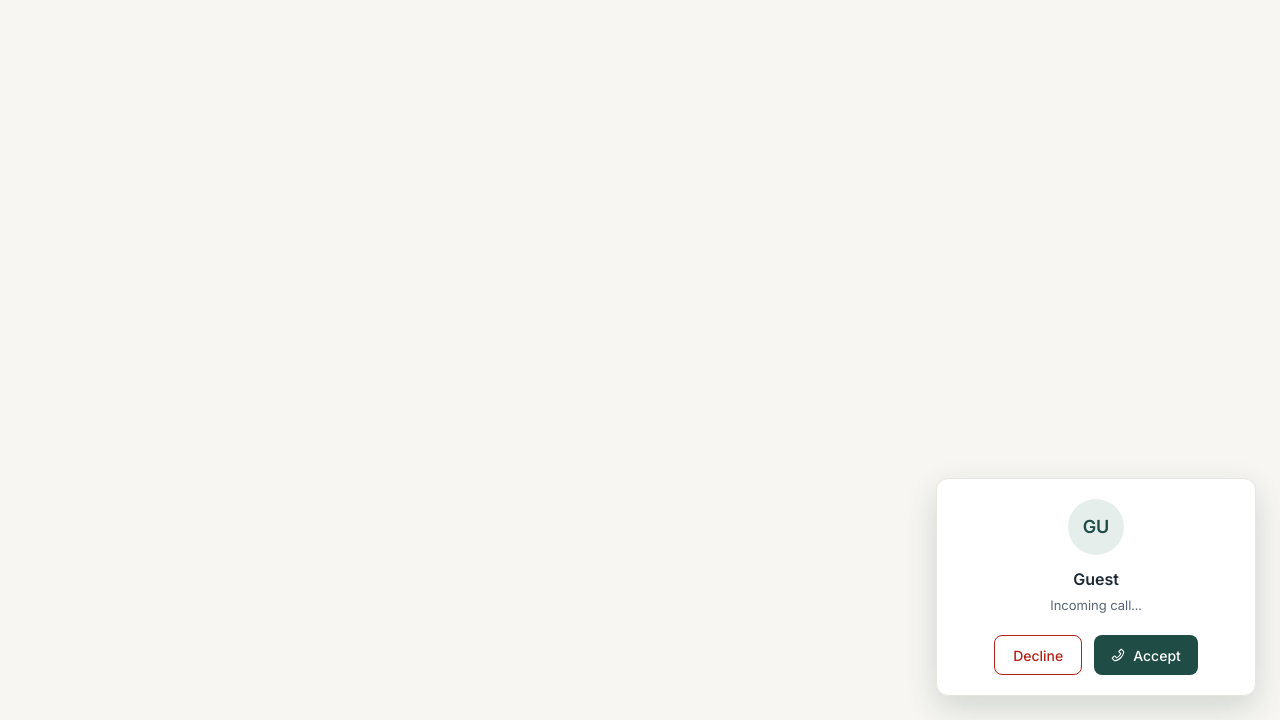
Test: CallPopup and call state machine › handles incoming call ringing, Accept -> connected, and Decline -> call:reject + ended system pill
The width and height of the screenshot is (1280, 720).
expect the message with test id "call-status-text" reads "Incoming call...": met, box [1050,597,1142,613]
expect the button "Decline" is shown: met, box [994,635,1082,675]
Click the button "Accept": click(1146, 655) [1094,635,1198,675]
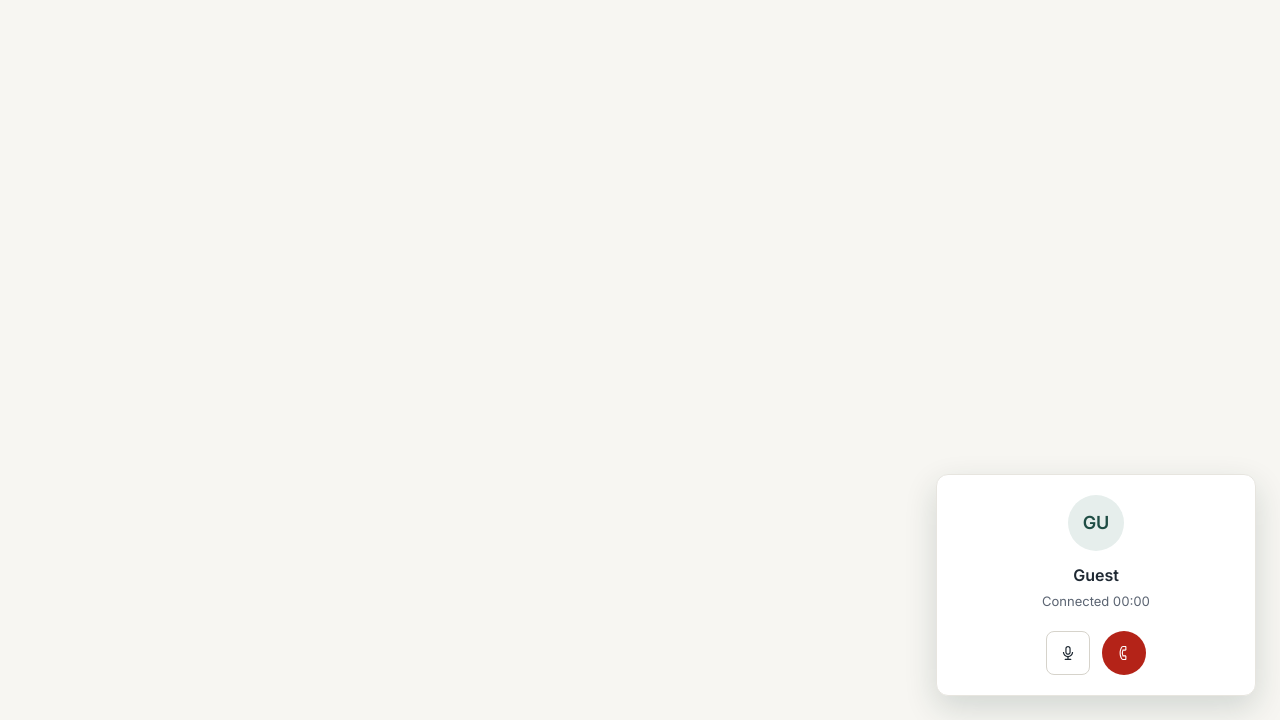
End accepted call and reset
Click the button named "End call": click(1124, 653) [1102,631,1146,675]
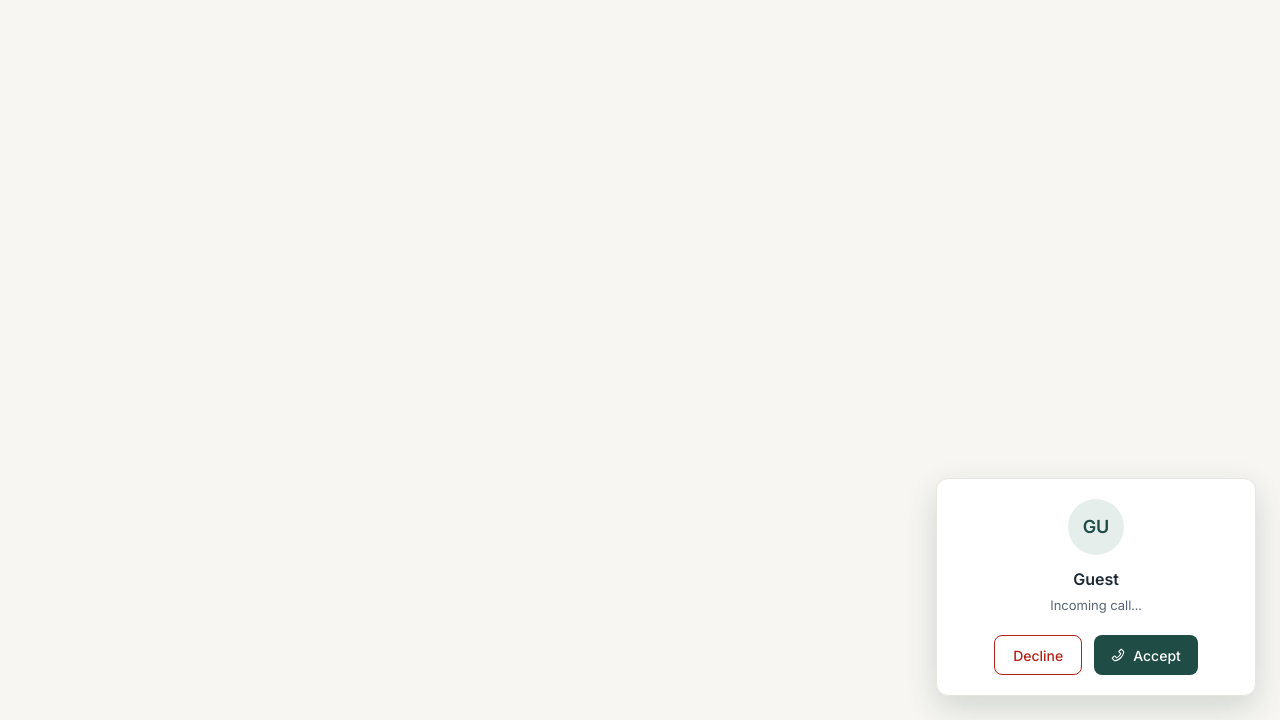
Click the button "Decline": click(1038, 655) [994,635,1082,675]
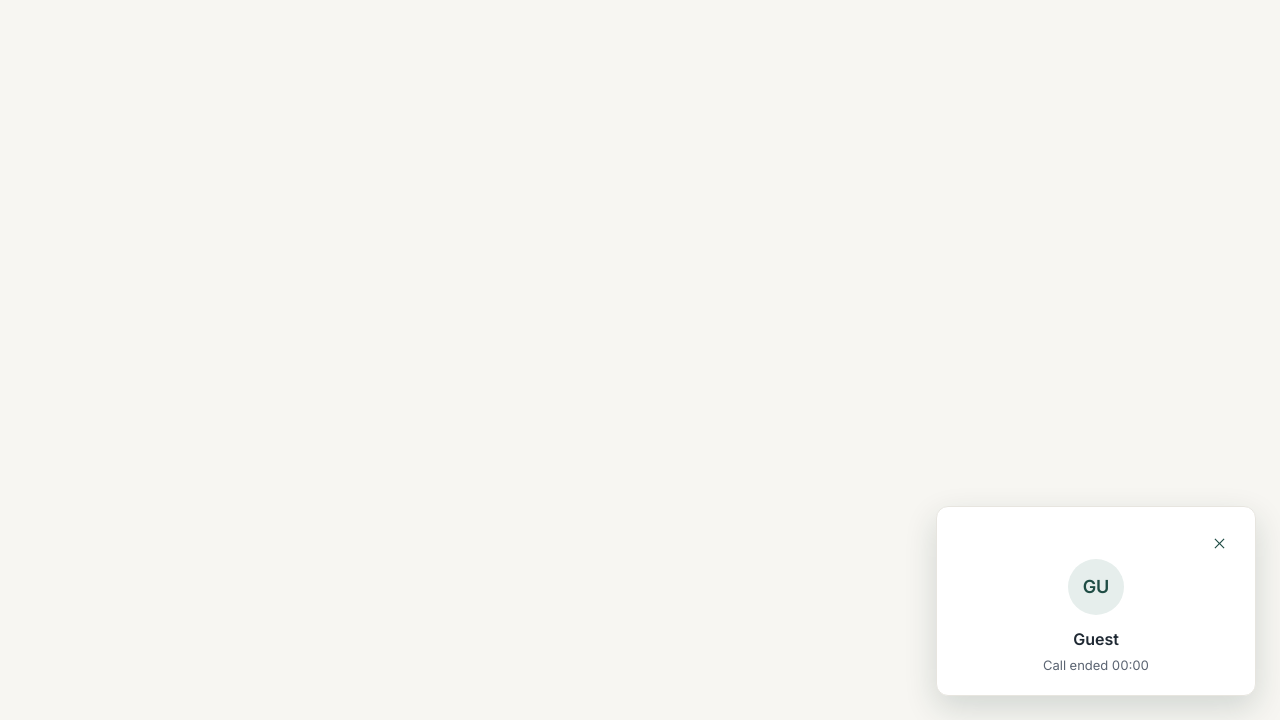
expect the message with test id "call-status-text" reads "Call ended 00:00": met, box [1043,657,1149,673]
